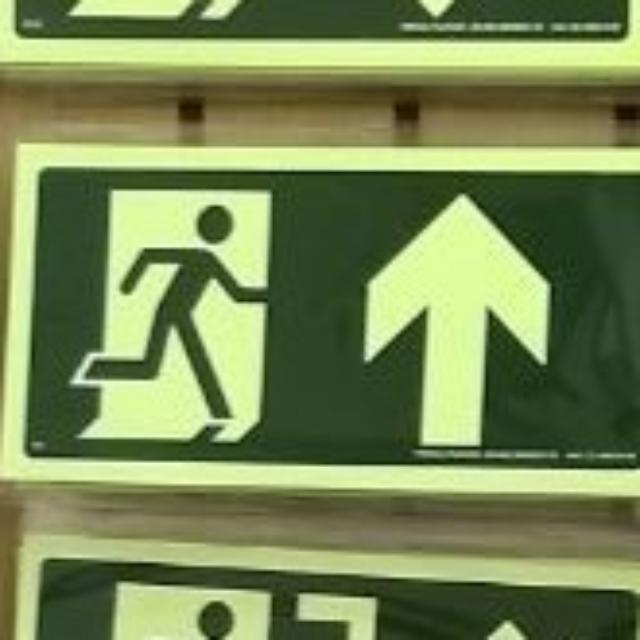exit: (0, 144, 636, 493)
